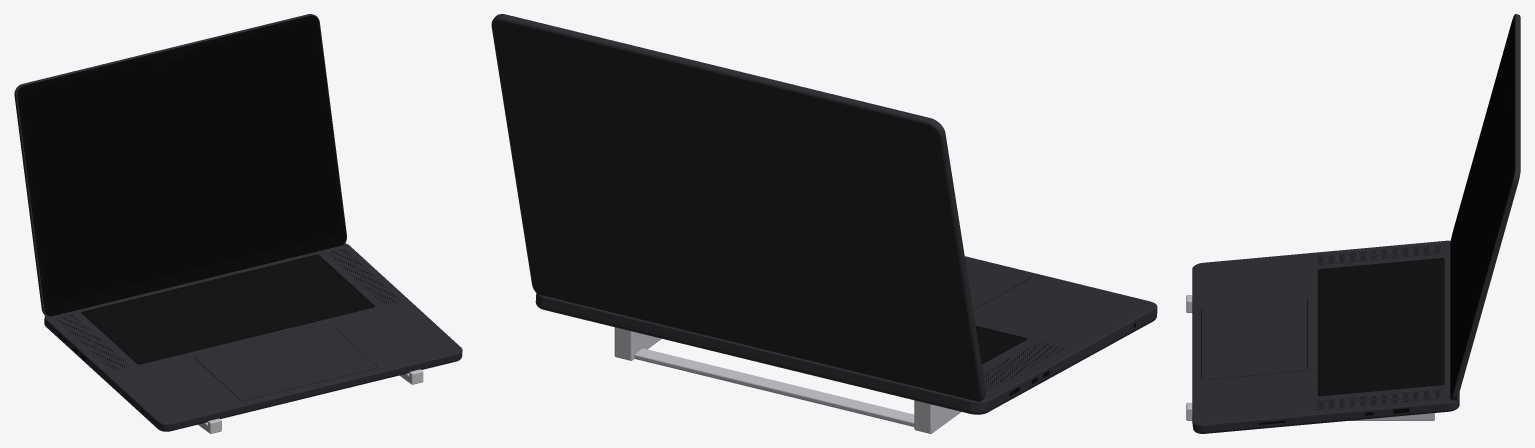
Rendered from macbook.glb.
The picture shows the model from 3 angles, left to right: view 1: azimuth 30°, elevation 25°; view 2: azimuth 150°, elevation 25°; view 3: azimuth 270°, elevation 25°; orthographic projection. The views are drawn at different scales.
Parts seen in each view (by area): view 1: Screen, Body, Lid, Stand; view 2: Lid, Body, Stand; view 3: Body, Screen, Lid, Stand.
Boxes of the visible parts, box(x1,y1,x2,y2) form: Screen: box(20, 19, 342, 304); Body: box(44, 243, 462, 431); Lid: box(14, 14, 346, 316); Stand: box(198, 369, 423, 433); Lid: box(491, 14, 985, 401); Body: box(535, 256, 1157, 414); Stand: box(614, 327, 960, 433); Body: box(1192, 240, 1459, 433); Screen: box(1453, 19, 1512, 386); Lid: box(1450, 14, 1520, 400); Stand: box(1186, 295, 1434, 420).
Size of the model in its own units: 0.3563 by 0.2786 by 0.3093.
Materials: 10 (1 with a texture image).
